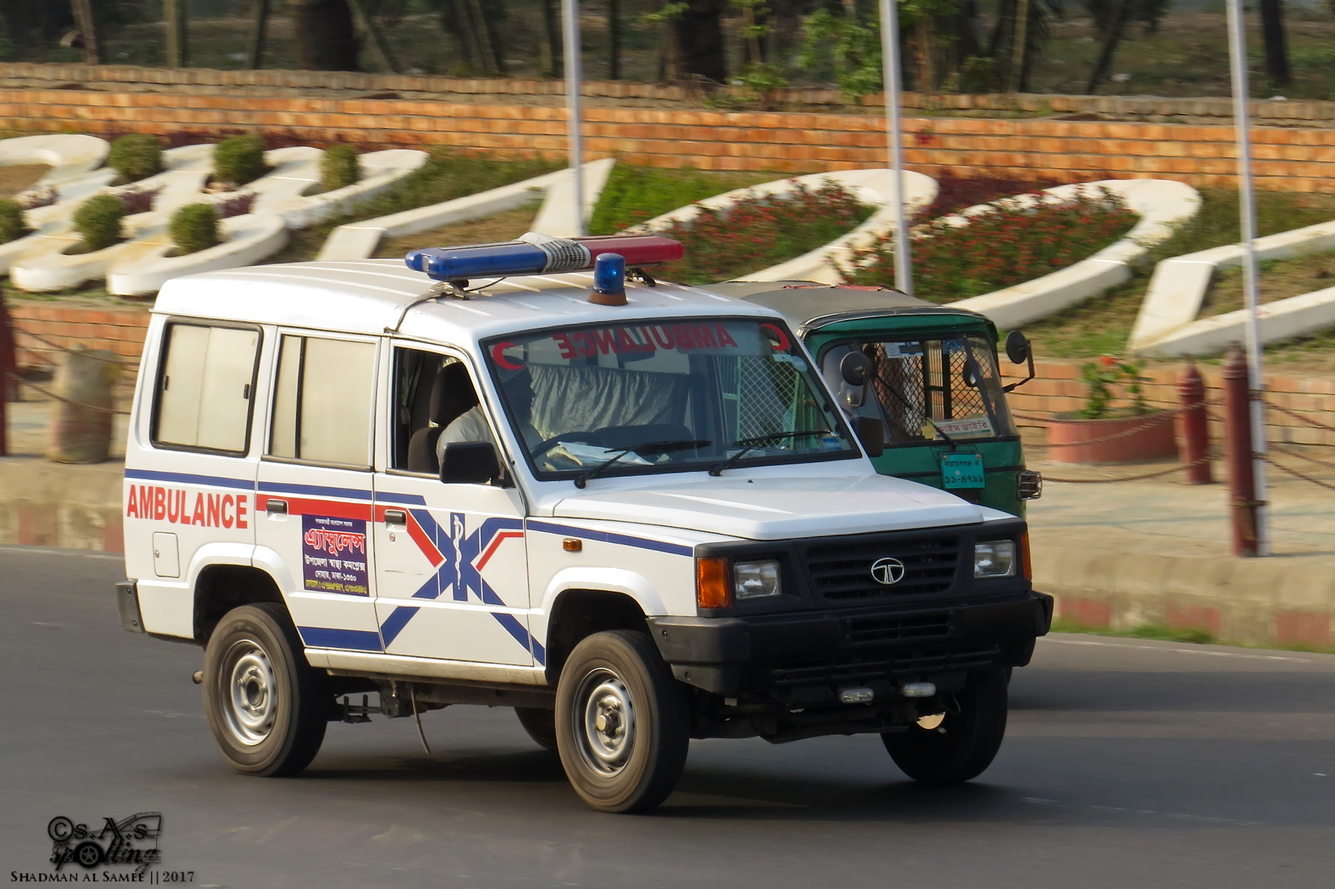Ambulance: (107, 223, 1040, 812)
cng: (743, 263, 1081, 511)
